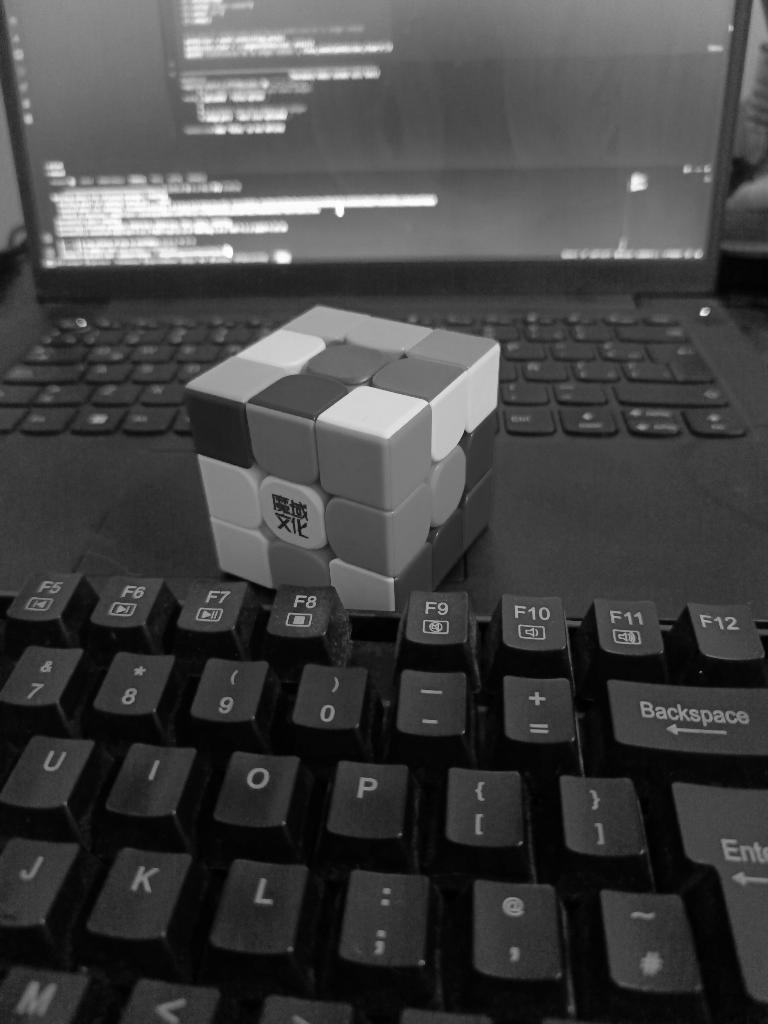rubik: (182, 301, 502, 611)
